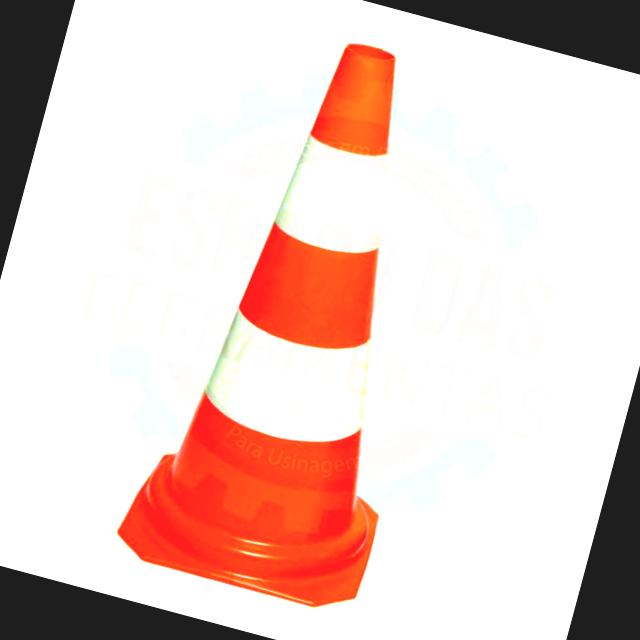cone: (104, 22, 493, 627)
